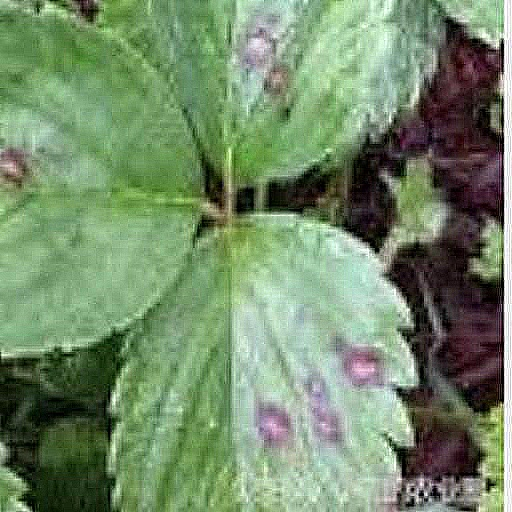Leaf Spot: (103, 210, 419, 511), (90, 0, 450, 192)
